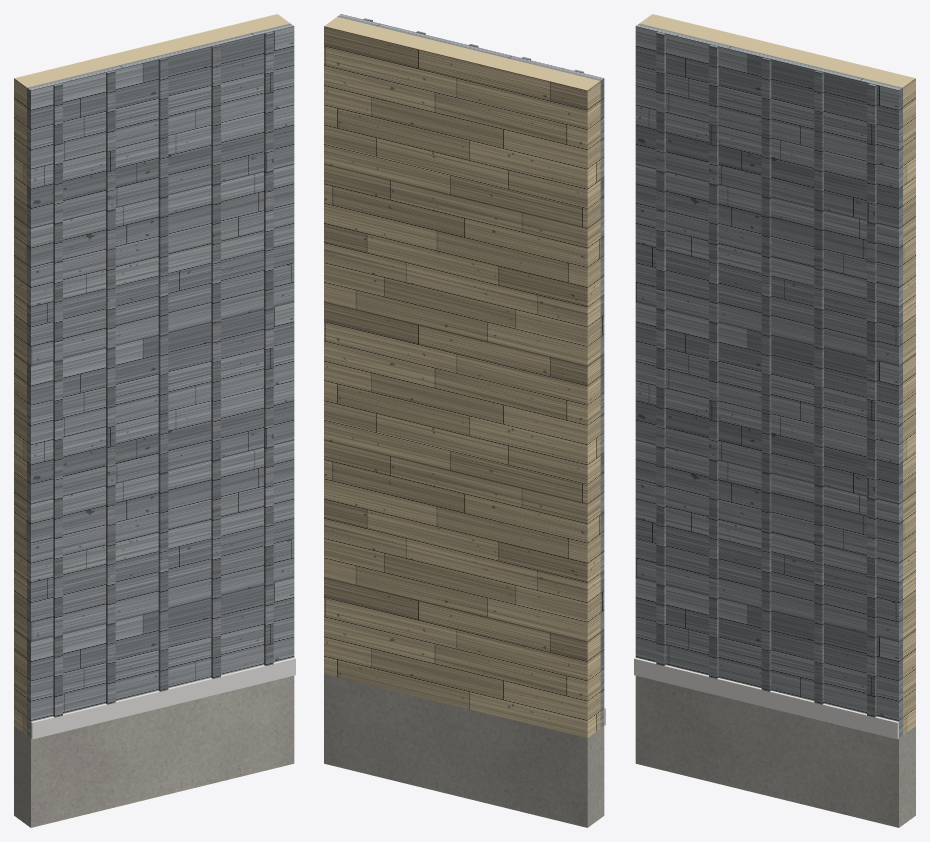
File: m_plain.glb
3 renders of one model, left to right at view 1: azimuth 30°, elevation 25°; view 2: azimuth 150°, elevation 25°; view 3: azimuth 330°, elevation 25°, orthographic.
Parts seen in each view (by area): view 1: m_plain_siding, m_plain_batten, m_plain_concrete, m_plain_plaster, m_plain_trim; view 2: m_plain_plaster, m_plain_concrete, m_plain_siding; view 3: m_plain_siding, m_plain_batten, m_plain_concrete, m_plain_plaster, m_plain_trim.
Part boxes in pixels (<box>): m_plain_siding: <box>27,23,294,737</box>; m_plain_batten: <box>53,31,273,717</box>; m_plain_concrete: <box>14,675,294,827</box>; m_plain_plaster: <box>14,14,289,735</box>; m_plain_trim: <box>31,657,295,739</box>; m_plain_plaster: <box>324,17,600,738</box>; m_plain_concrete: <box>324,674,604,827</box>; m_plain_siding: <box>337,14,604,728</box>; m_plain_siding: <box>635,23,902,737</box>; m_plain_batten: <box>656,31,876,717</box>; m_plain_concrete: <box>635,675,915,827</box>; m_plain_plaster: <box>640,14,915,735</box>; m_plain_trim: <box>634,657,898,739</box>.
Bounding box in the file's own units: 2 × 5.35 × 0.242.
Materials: 5 (4 with a texture image).
